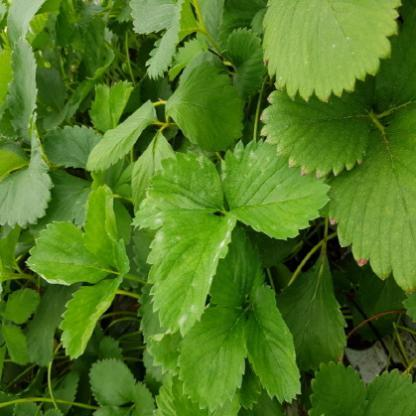Strawberry_Powdery_Mildew_Leaf: (219, 137, 332, 241), (146, 211, 237, 339), (130, 149, 224, 230)
